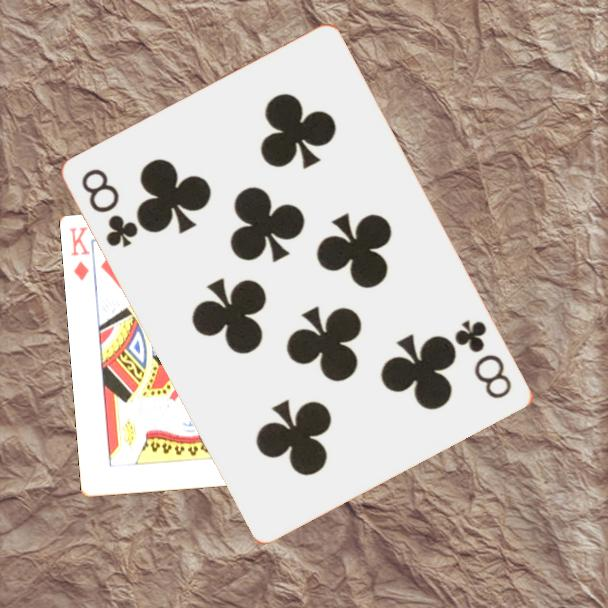c08: (451, 316, 515, 402), (78, 165, 142, 250)
d13: (66, 224, 93, 284)
